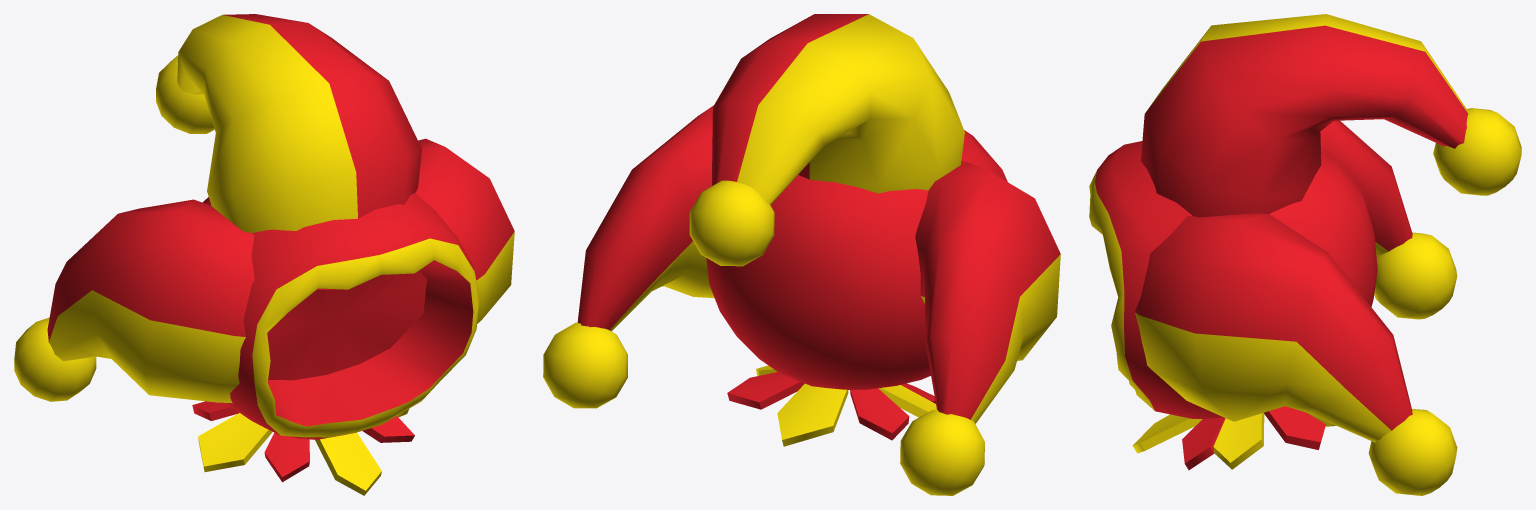
The model's file is Jester_hat.fbx.
3 views of the same model, side by side, from view 1: azimuth 30°, elevation 25°; view 2: azimuth 150°, elevation 25°; view 3: azimuth 270°, elevation 25° (orthographic). The views are drawn at different scales.
Parts seen in each view (by area): view 1: Jester_hat; view 2: Jester_hat; view 3: Jester_hat.
Part boxes in pixels (x1,y1,x2,y2): Jester_hat: (14, 14, 514, 495); Jester_hat: (543, 14, 1060, 495); Jester_hat: (1089, 14, 1521, 495).
Bounding box in the file's own units: 1.06 × 0.9802 × 0.9023.
